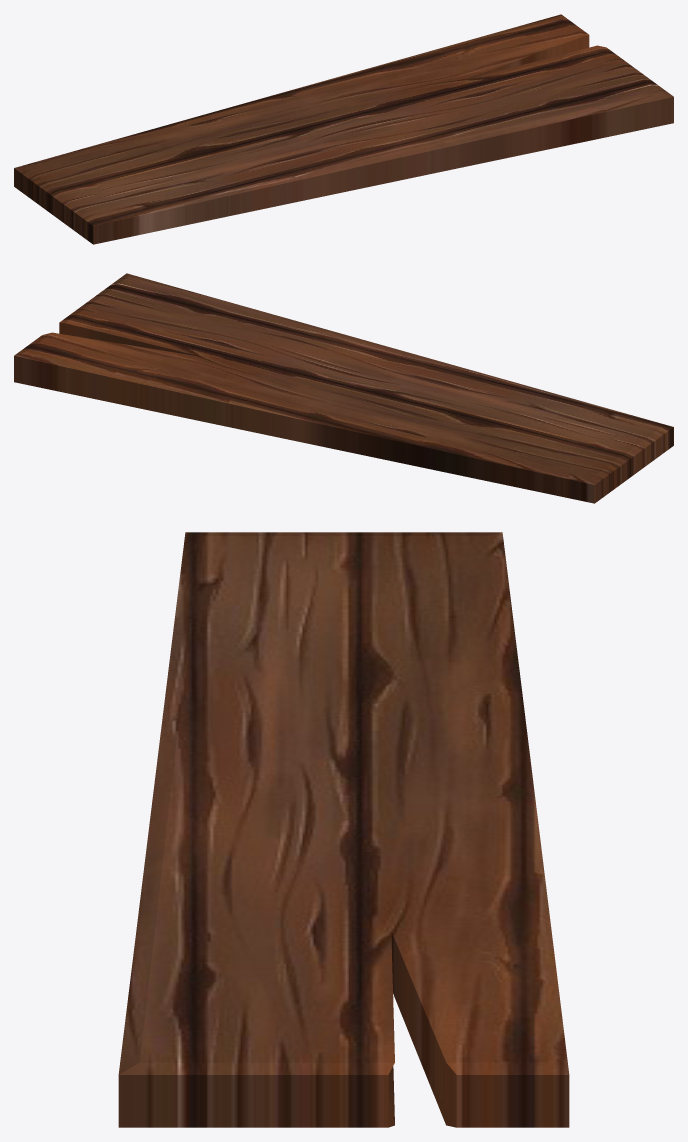
The model's file is escombros.FBX.
3 views of the same model, one above another, from view 1: azimuth 30°, elevation 25°; view 2: azimuth 150°, elevation 25°; view 3: azimuth 270°, elevation 25° (orthographic). The views are drawn at different scales.
Visible parts, largest first — view 1: escombros; view 2: escombros; view 3: escombros.
Boxes of the visible parts, x1,y1,x2,y2 form: escombros: (14,14,673,244); escombros: (14,273,673,503); escombros: (118,532,569,1127).
Size of what is drawn, in the model's own units: 122 by 42.34 by 6.52.
